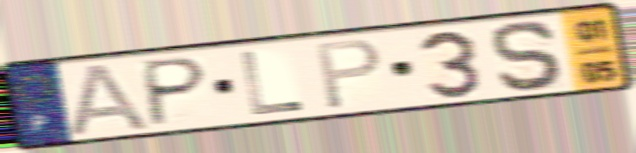3: (414, 26, 486, 101)
A: (67, 60, 154, 138)
L: (236, 49, 307, 118)
P: (313, 36, 385, 112), (142, 55, 212, 130)
S: (489, 18, 569, 93)
